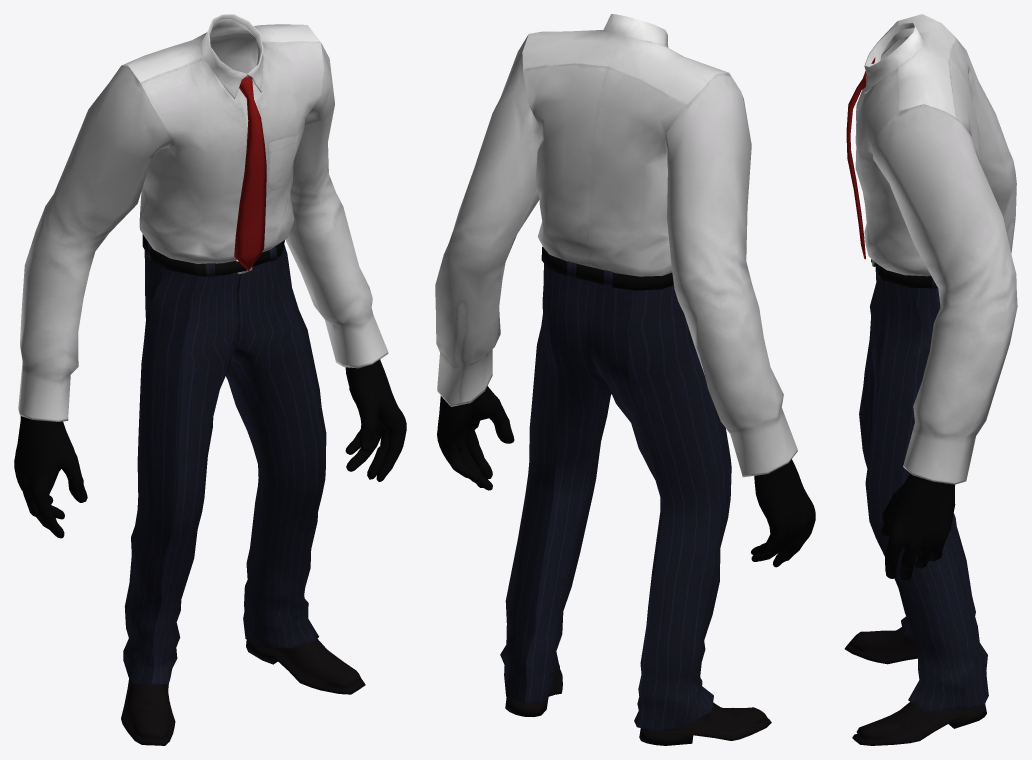
The model's file is quentin_body.glb.
The picture shows the model from 3 angles, left to right: view 1: azimuth 30°, elevation 25°; view 2: azimuth 150°, elevation 25°; view 3: azimuth 270°, elevation 25°; orthographic projection. The views are drawn at different scales.
Parts seen in each view (by area): view 1: Object_2, Object_3, Object_4; view 2: Object_2, Object_3; view 3: Object_2, Object_3, Object_4.
Part boxes in pixels (x1=…): Object_2: x1=18, y1=14, x2=388, y2=745; Object_3: x1=14, y1=359, x2=406, y2=538; Object_4: x1=234, y1=76, x2=266, y2=270; Object_2: x1=435, y1=14, x2=797, y2=745; Object_3: x1=437, y1=386, x2=815, y2=567; Object_2: x1=844, y1=14, x2=1017, y2=745; Object_3: x1=881, y1=474, x2=955, y2=580; Object_4: x1=846, y1=57, x2=875, y2=259.
Size of the model in its own units: 0.6812 by 1.23 by 0.2887.
3 materials, 1 textured.
